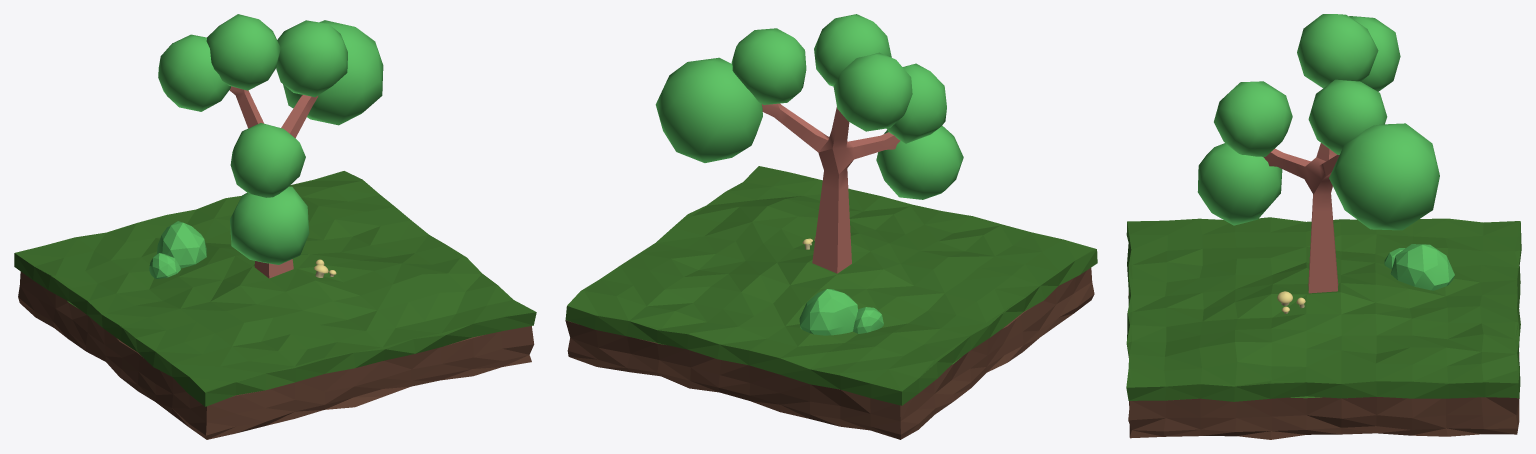
File: tree.fbx
3 renders of one model, left to right at view 1: azimuth 30°, elevation 25°; view 2: azimuth 150°, elevation 25°; view 3: azimuth 270°, elevation 25°, orthographic. The views are drawn at different scales.
Visible parts, largest first — view 1: Grass, Leaves, Dirt, Bush, Wood; view 2: Grass, Leaves, Dirt, Wood, Bush; view 3: Grass, Leaves, Dirt, Wood, Bush.
Part boxes in pixels (left/top/right/bottom): Grass: left=14, top=171, right=536, bottom=406; Leaves: left=158, top=14, right=383, bottom=264; Dirt: left=18, top=272, right=534, bottom=439; Bush: left=149, top=221, right=206, bottom=278; Wood: left=229, top=86, right=317, bottom=278; Grass: left=565, top=166, right=1097, bottom=405; Leaves: left=655, top=14, right=963, bottom=199; Dirt: left=565, top=268, right=1094, bottom=439; Wood: left=762, top=103, right=900, bottom=273; Bush: left=799, top=289, right=883, bottom=335; Grass: left=1126, top=217, right=1521, bottom=401; Leaves: left=1197, top=14, right=1439, bottom=230; Dirt: left=1128, top=293, right=1519, bottom=439; Wood: left=1263, top=143, right=1339, bottom=293; Bush: left=1384, top=244, right=1454, bottom=290.
Size of the model in its own units: 1009 by 929 by 1009.
